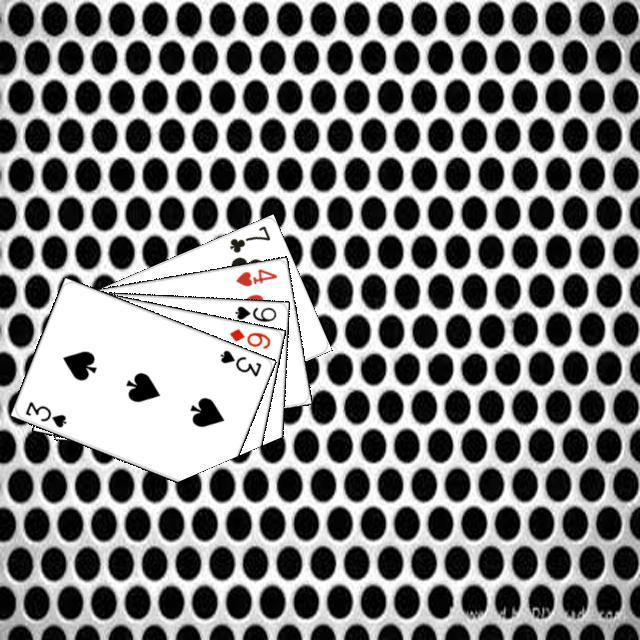3s: (215, 345, 263, 378), (20, 397, 68, 429)
4h: (231, 264, 279, 288)
6d: (224, 324, 272, 351)
7c: (224, 220, 272, 255)
9s: (230, 301, 278, 324)
